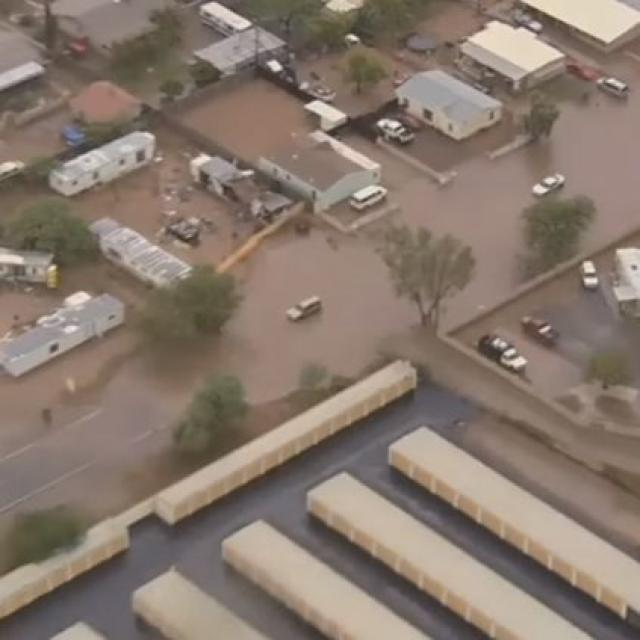flooded_areas: (57, 20, 638, 391)
